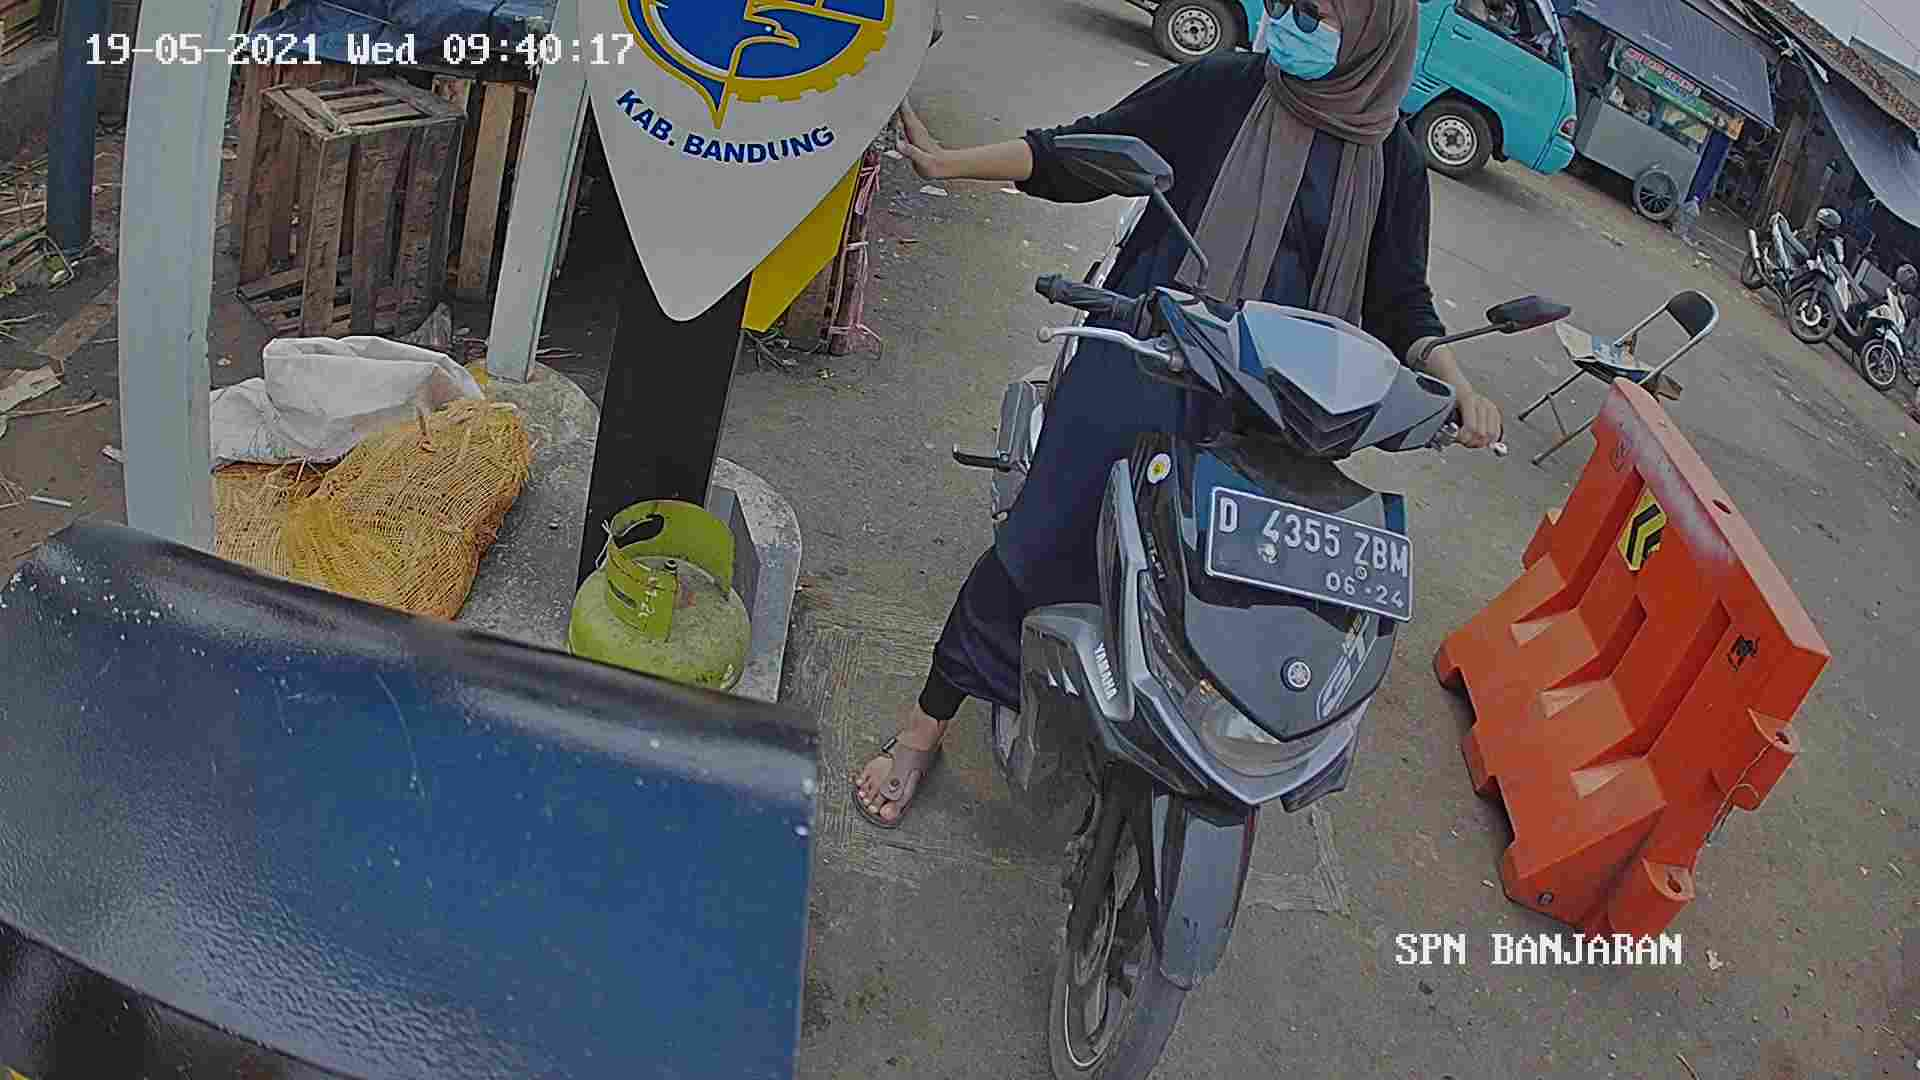motor: (981, 243, 1427, 1080)
